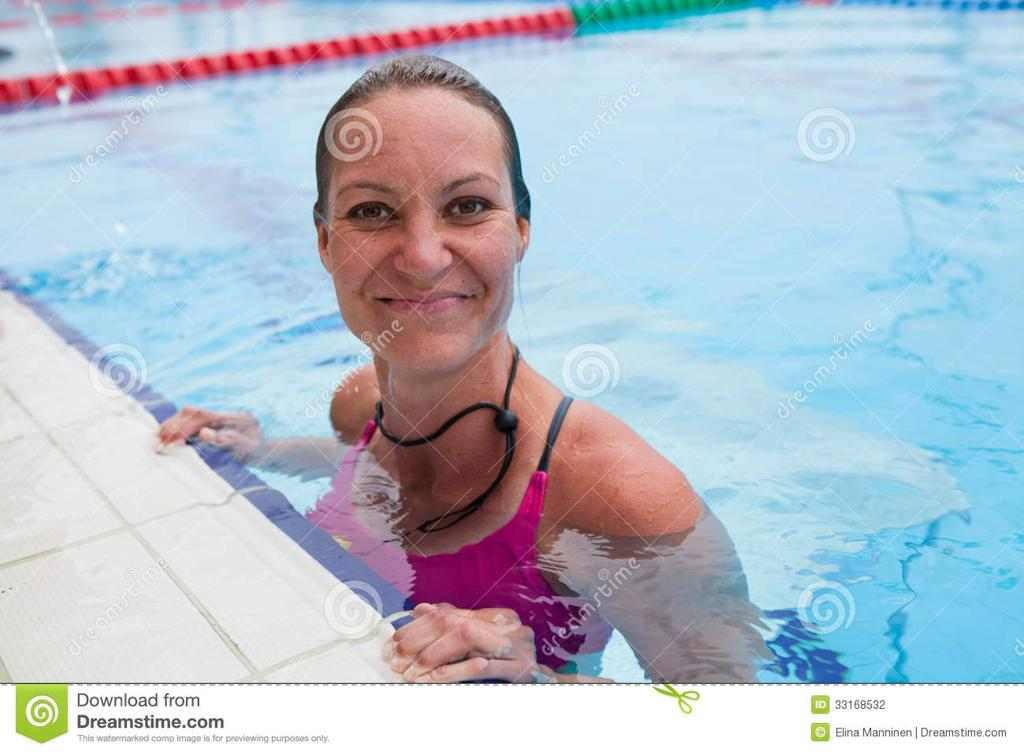face: (332, 128, 510, 374)
